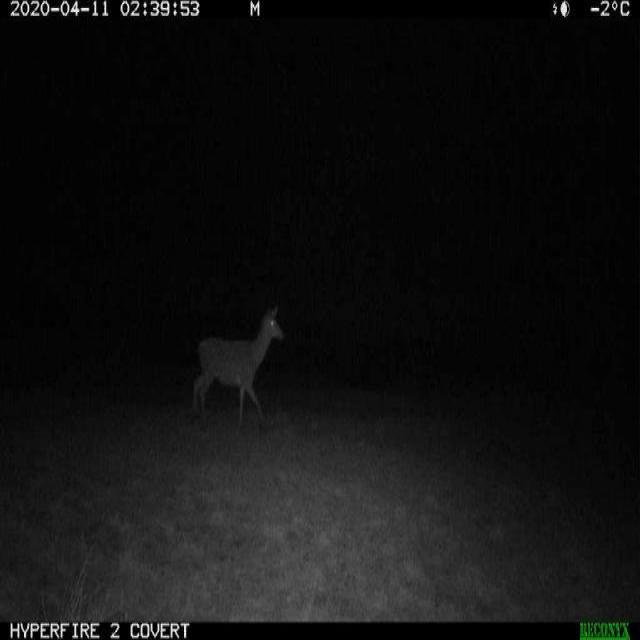deer: (192, 291, 292, 442)
